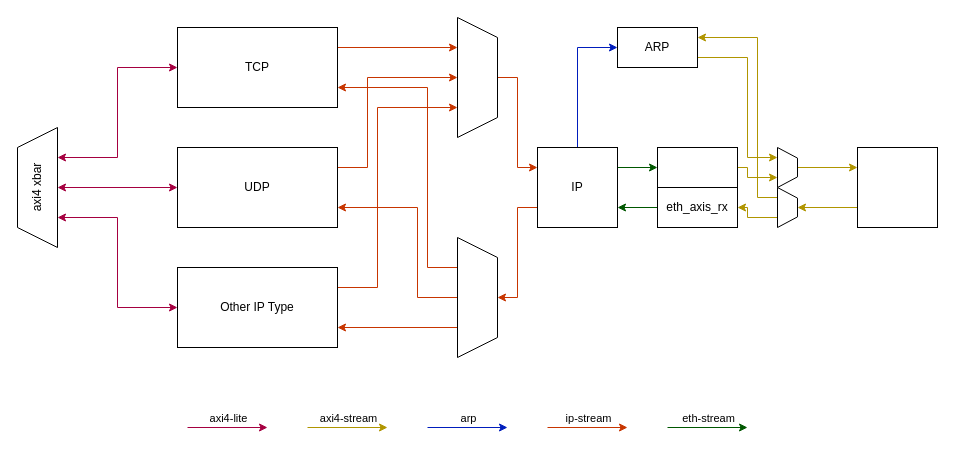
Image size: 955x453. Some labels were removed from this diagram. Each missing label, with the box of its shape:
eth_axis_tx: (656, 146, 738, 188)
ip arb: (456, 16, 498, 138)
ip demux: (456, 236, 498, 358)
MAC: (856, 146, 938, 228)
